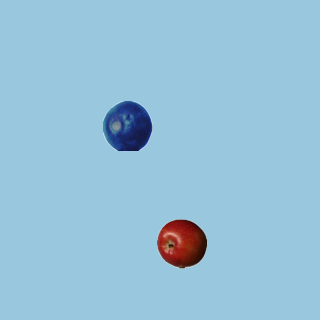Apple Braeburn: (156, 218, 206, 268)
Huckleberry: (102, 100, 152, 150)
